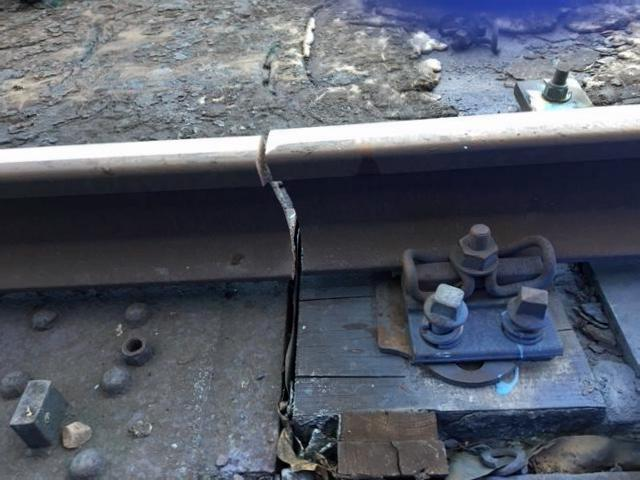tracks_fault: (233, 102, 340, 332)
